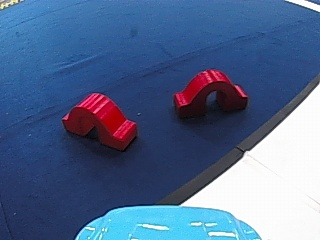bridge: (60, 88, 142, 153), (170, 64, 249, 120)
